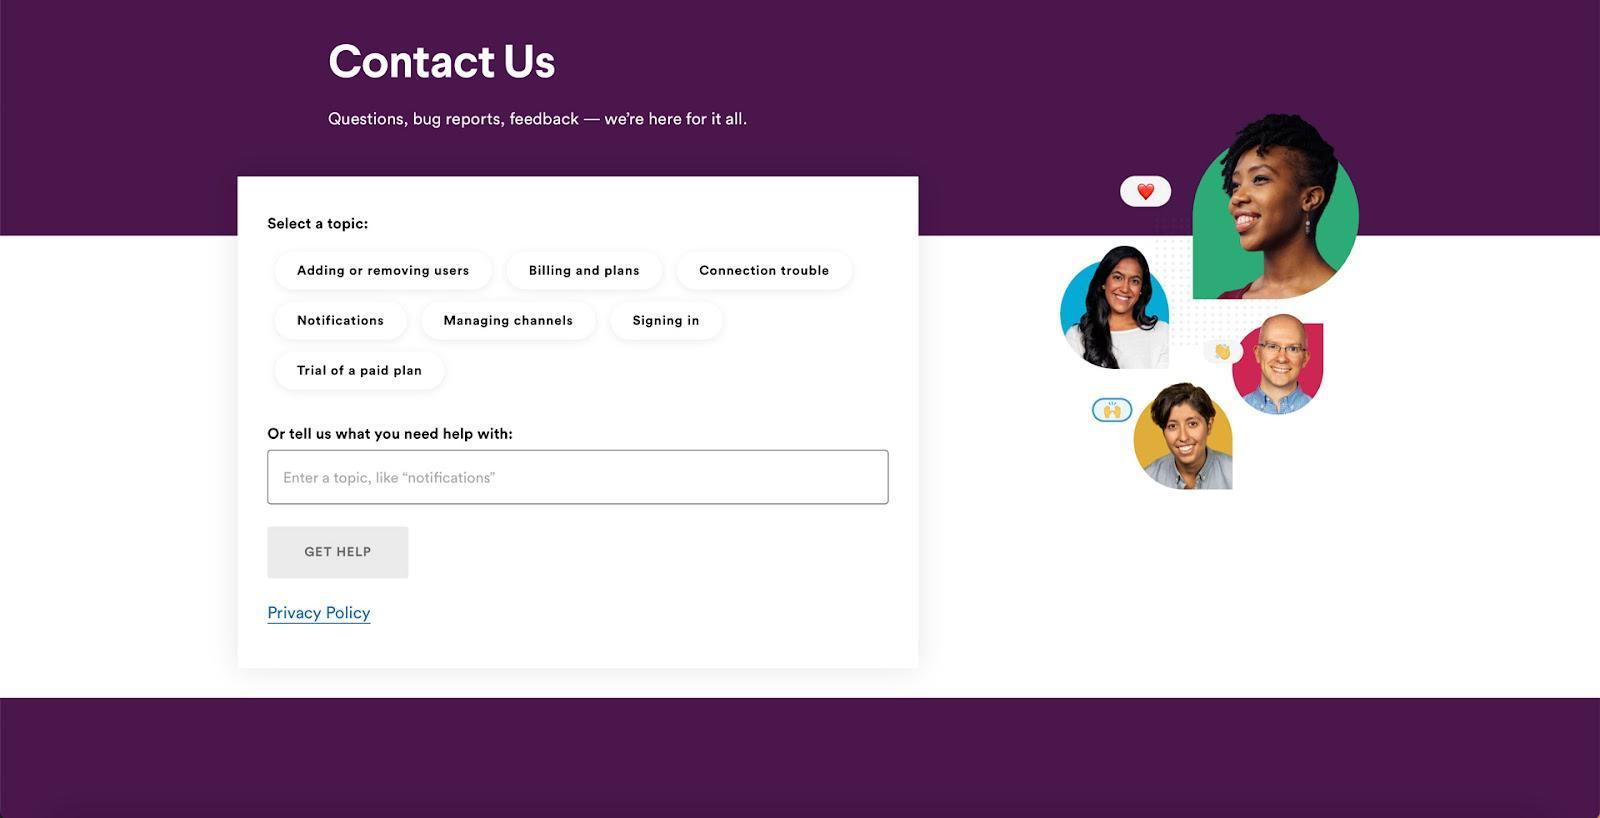button: (679, 248, 856, 293), (280, 254, 492, 290), (499, 249, 669, 294), (422, 300, 598, 343), (276, 348, 447, 392), (267, 526, 409, 578), (276, 300, 413, 342), (610, 303, 730, 346)
input: (270, 452, 887, 507)
label: (261, 418, 524, 443), (265, 209, 381, 239)
